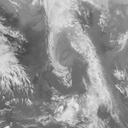cyclone: (48, 28, 101, 88)
